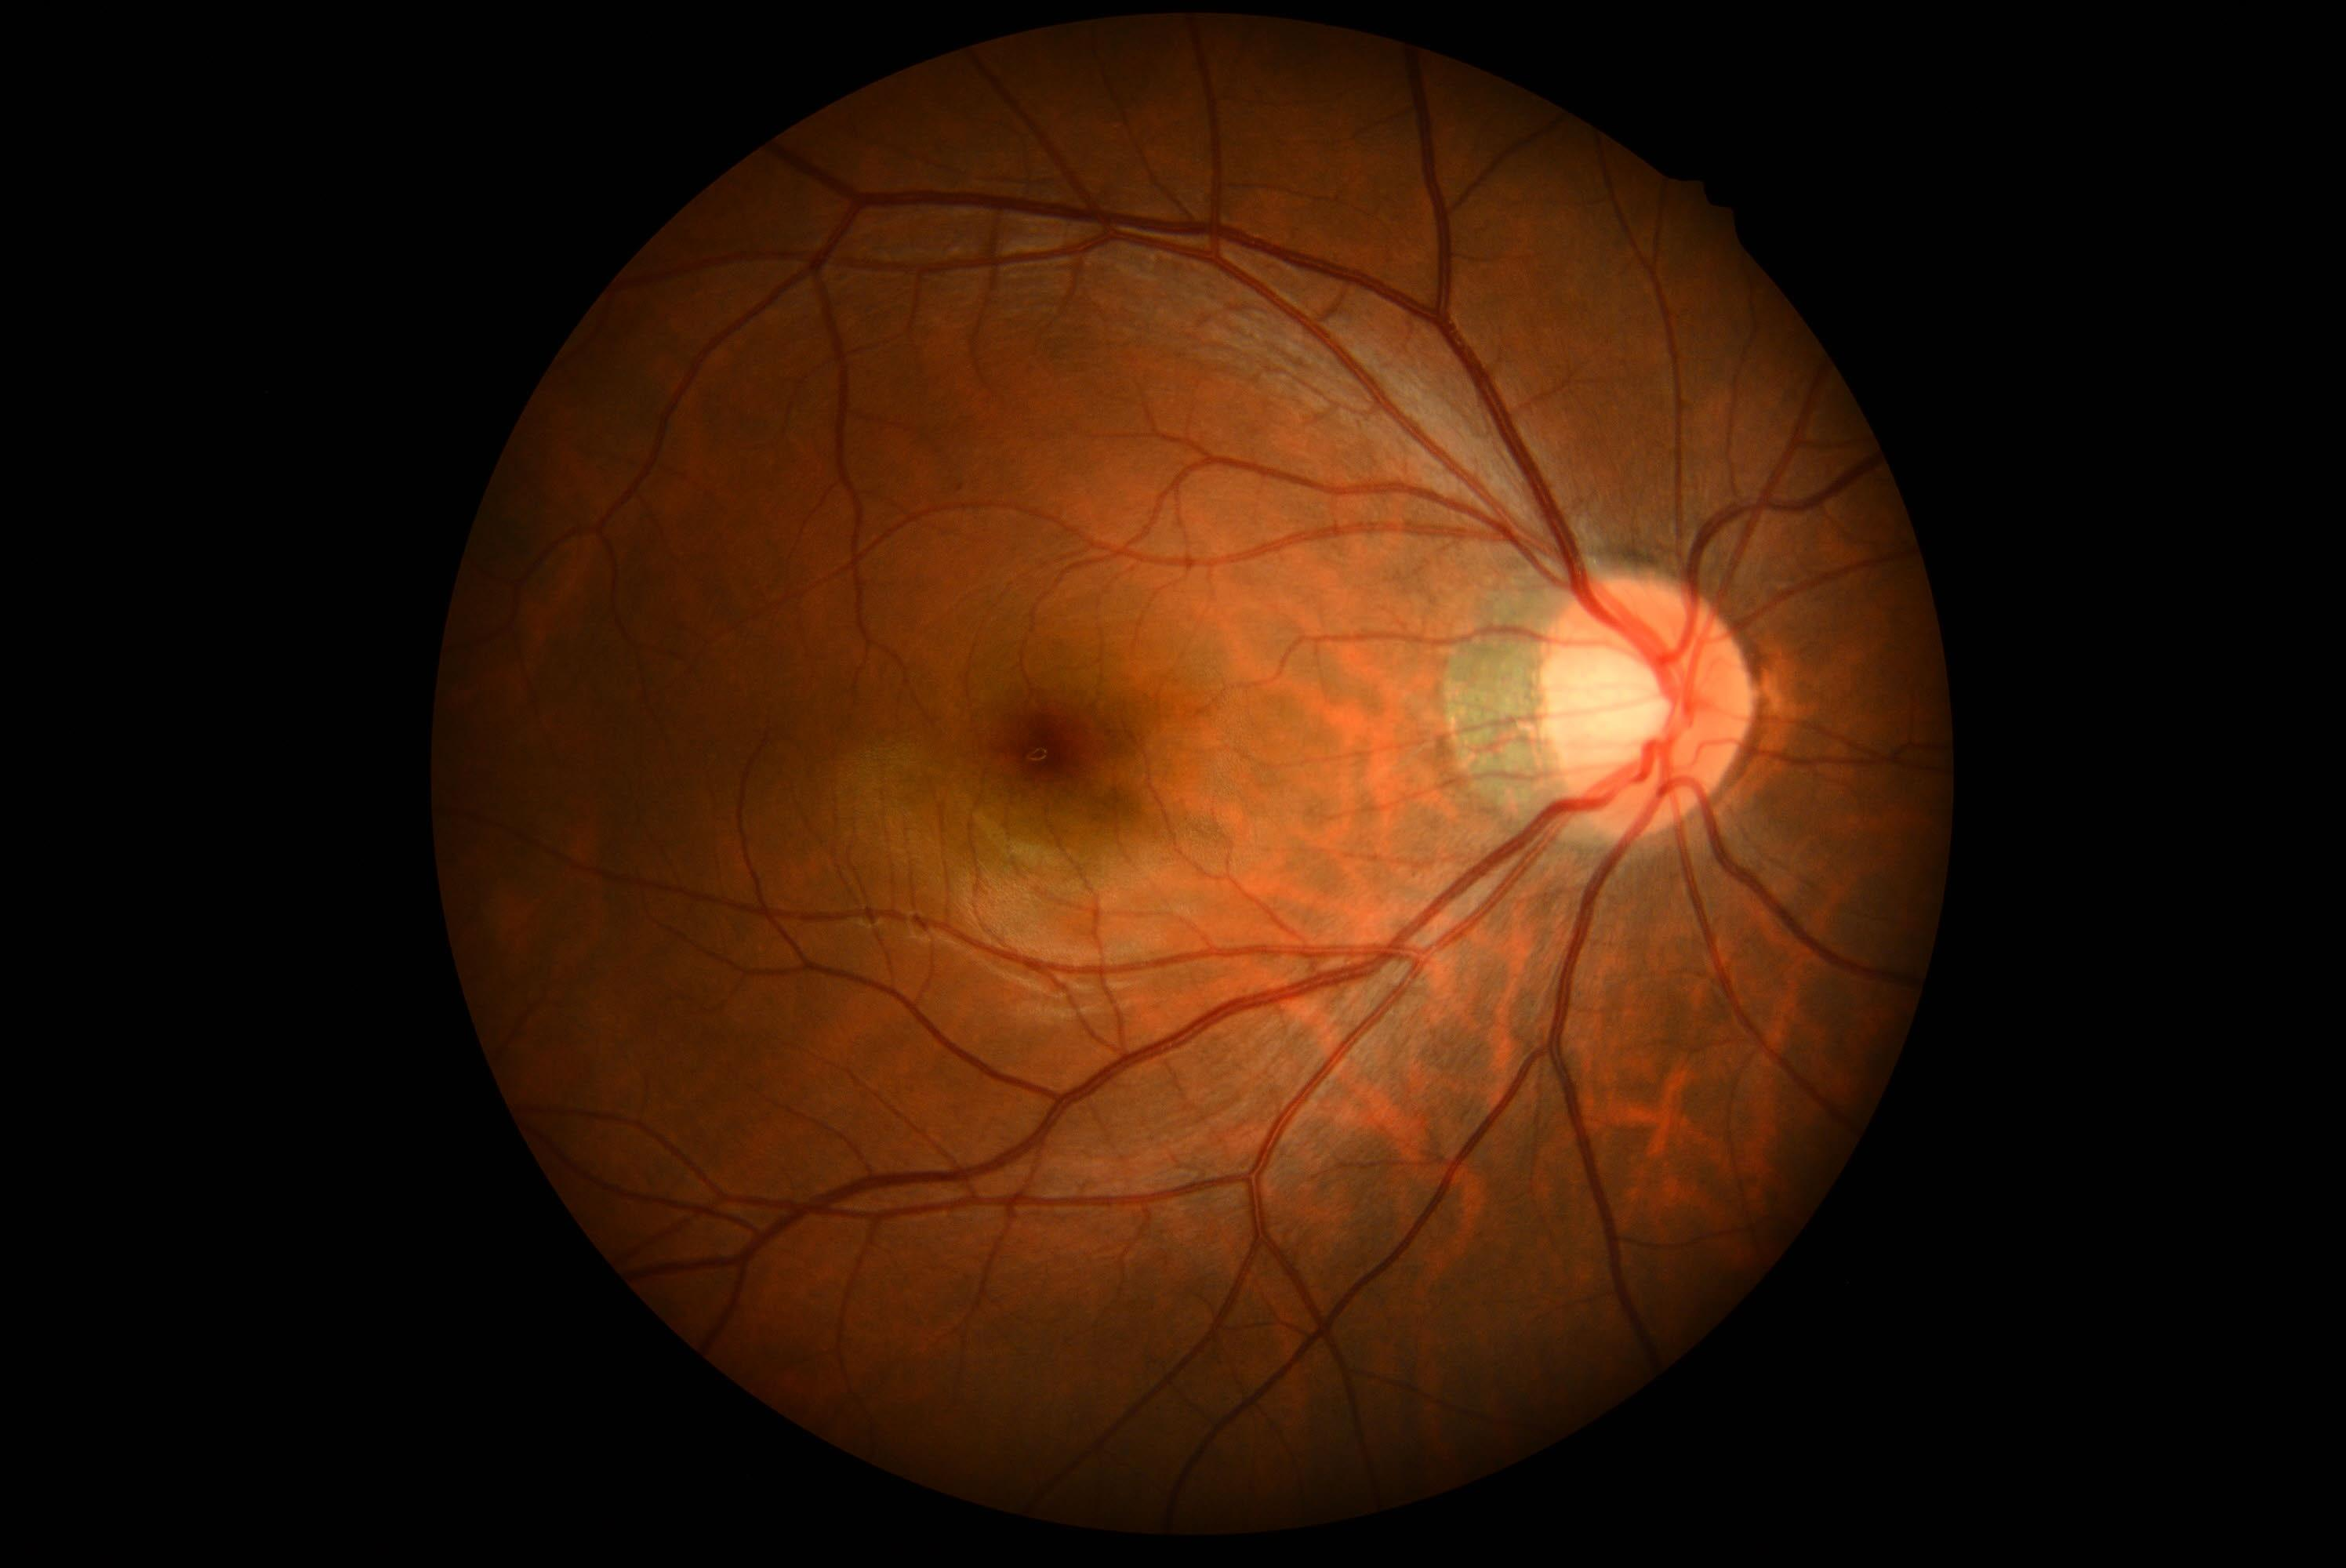Fovea: (964, 670, 1120, 826)
